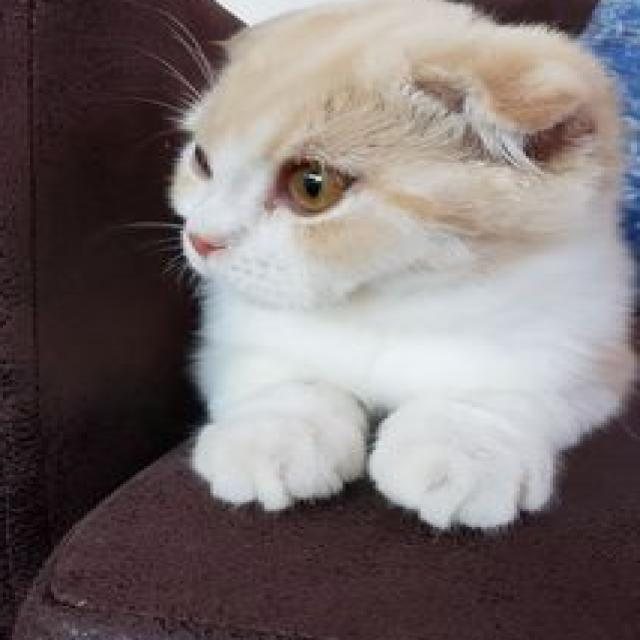Scottish Fold: (153, 0, 640, 536)
